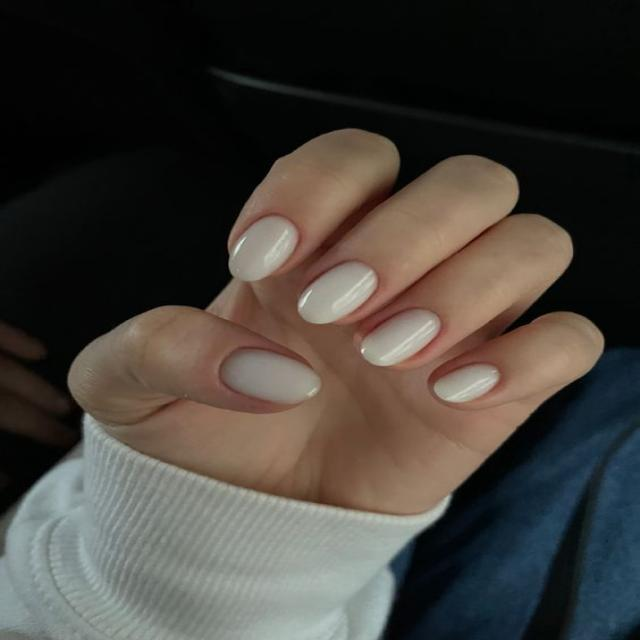Fingernail: (222, 349, 320, 404), (298, 262, 377, 323), (230, 215, 298, 281), (361, 309, 439, 365), (434, 363, 499, 403)
